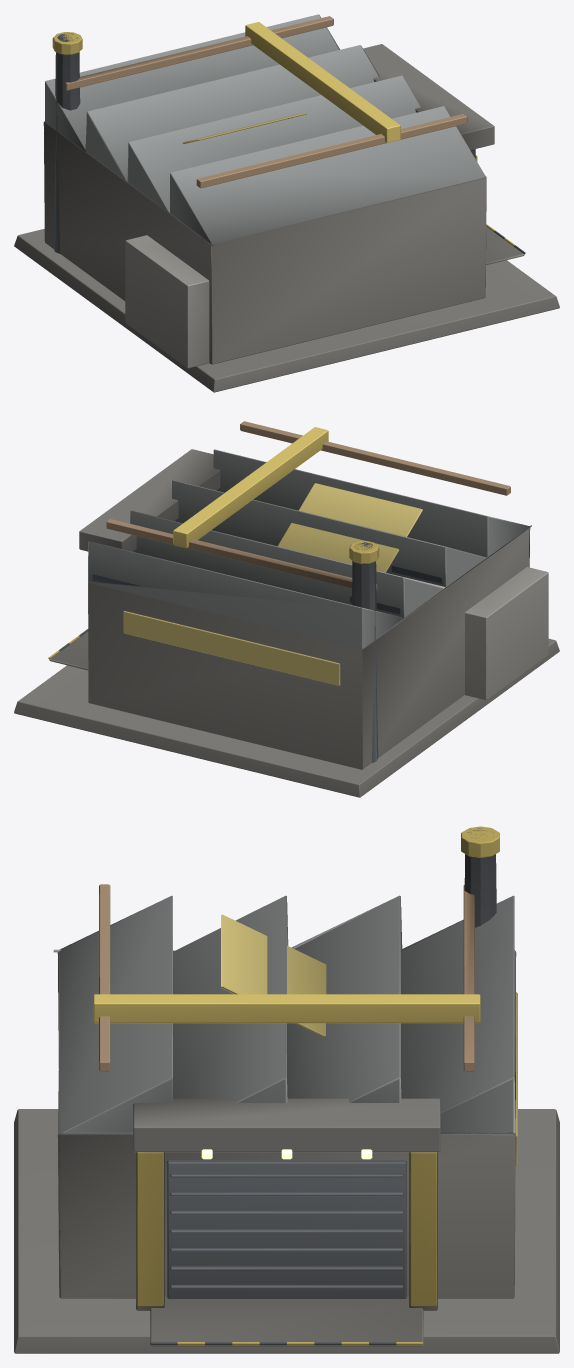
File: war_factory.glb
3 renders of one model, top to bottom at view 1: azimuth 30°, elevation 25°; view 2: azimuth 150°, elevation 25°; view 3: azimuth 270°, elevation 25°, orthographic. The views are drawn at different scales.
Visible parts, largest first — view 1: Body; view 2: Body; view 3: Body.
Part boxes in pixels (x1,y1,x2,y2): Body: (14,14,559,392); Body: (14,421,559,797); Body: (14,826,559,1353).
Size of the model in its own units: 10.23 by 5.92 by 9.59.
